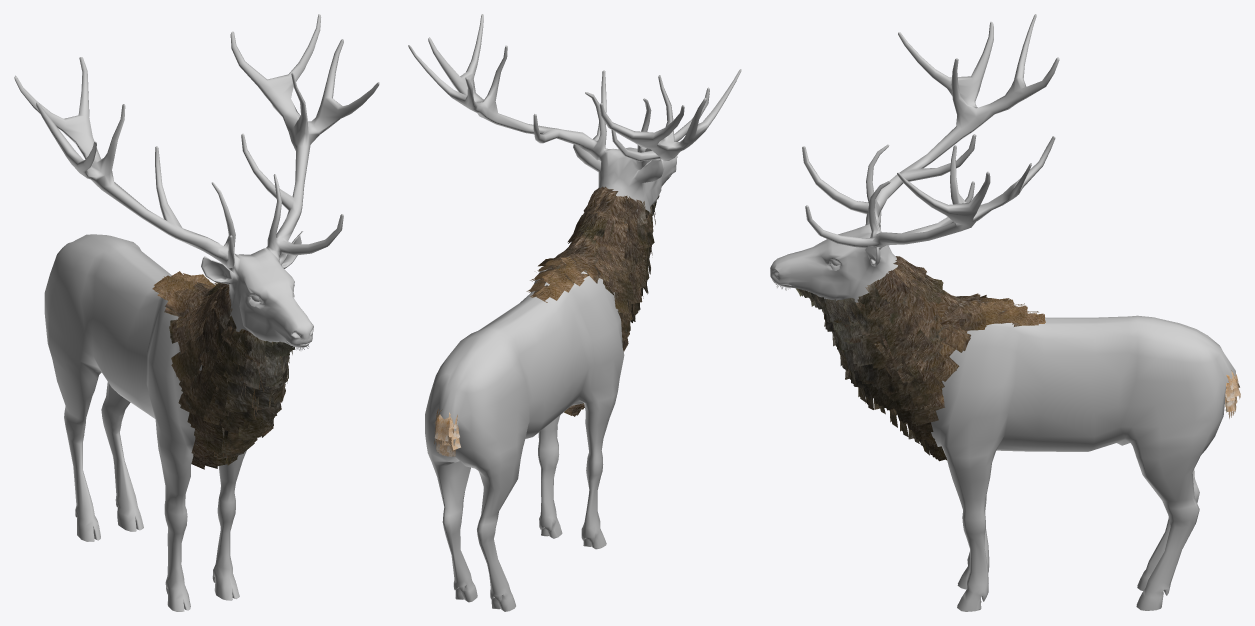
File: 3MiLuZhanLi.fbx
3 views of the same model, side by side, from view 1: azimuth 30°, elevation 25°; view 2: azimuth 150°, elevation 25°; view 3: azimuth 270°, elevation 25° (orthographic). The views are drawn at different scales.
Parts seen in each view (by area): view 1: Stag002, Hair1; view 2: Stag002, Hair1; view 3: Stag002, Hair1.
Boxes of the visible parts, x1,y1,x2,y2 form: Stag002: (14, 14, 379, 611); Hair1: (152, 271, 294, 469); Stag002: (408, 14, 741, 611); Hair1: (434, 186, 659, 456); Stag002: (770, 14, 1235, 611); Hair1: (796, 256, 1240, 461).
Bounding box in the file's own units: 123 × 206 × 172.
